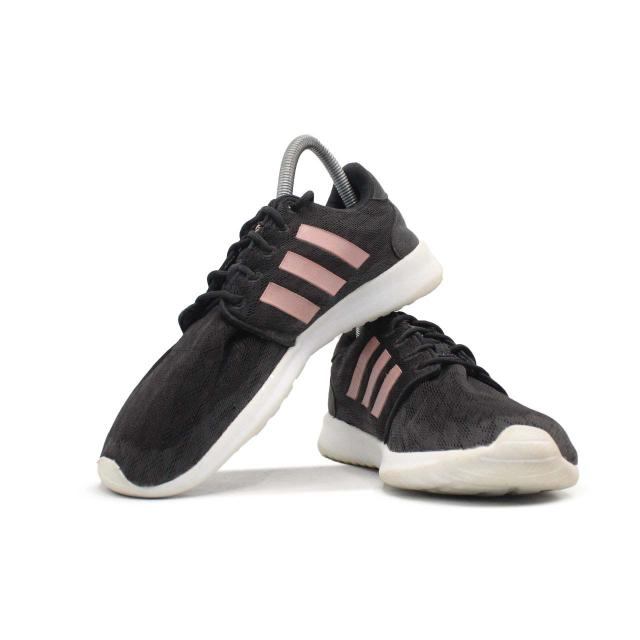heel: (343, 165, 420, 266)
midsole: (97, 241, 442, 501), (320, 410, 471, 487), (426, 424, 577, 490)
uppersole: (101, 189, 388, 486), (338, 312, 577, 456)
